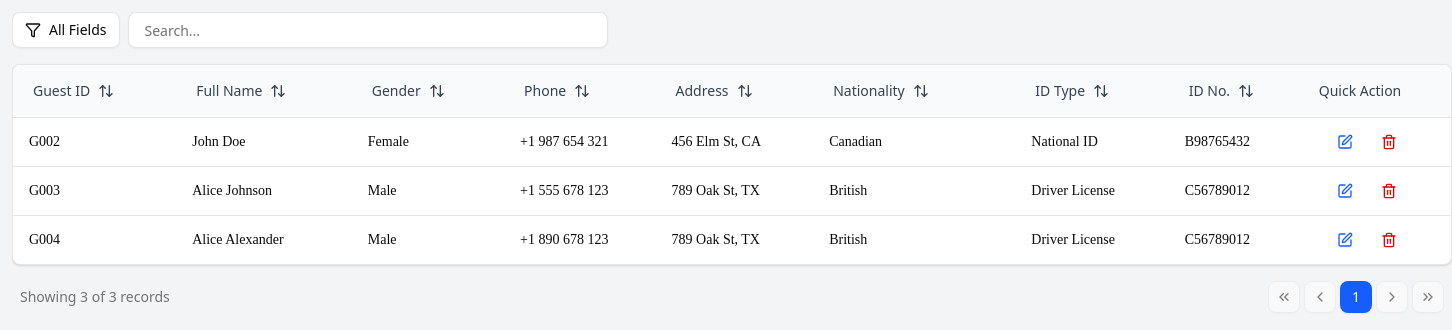
Test case: CustomTable Component › filters data based on text input
Type "Alice" into the field with placeholder "Search...". click: (368,30)
box: [128,12,608,48]
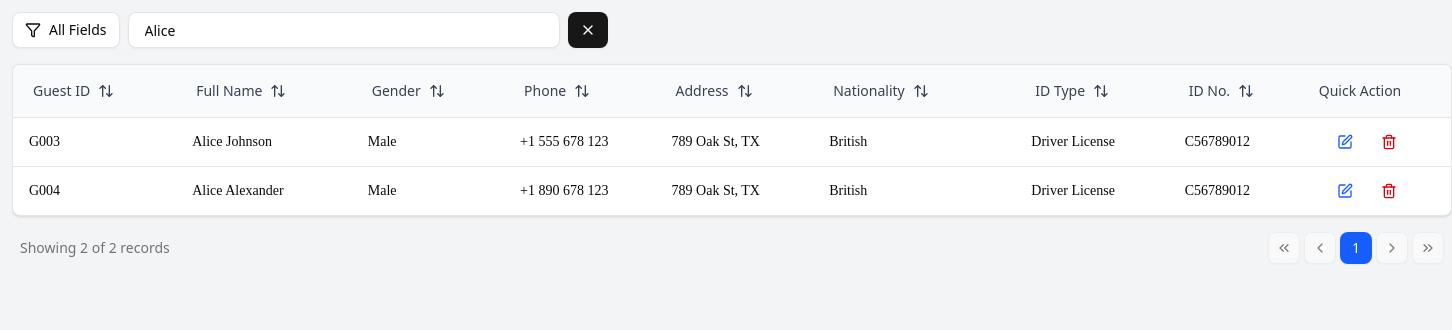
Clear the field with placeholder "Search...". click: (344,30)
box: [128,12,560,48]
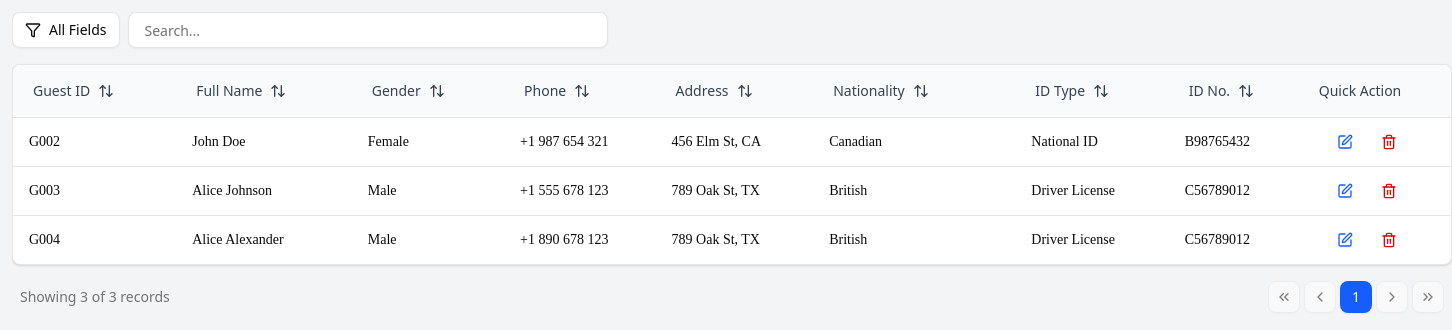
Type "Mikias" into the field with placeholder "Search...". click: (368,30)
box: [128,12,608,48]
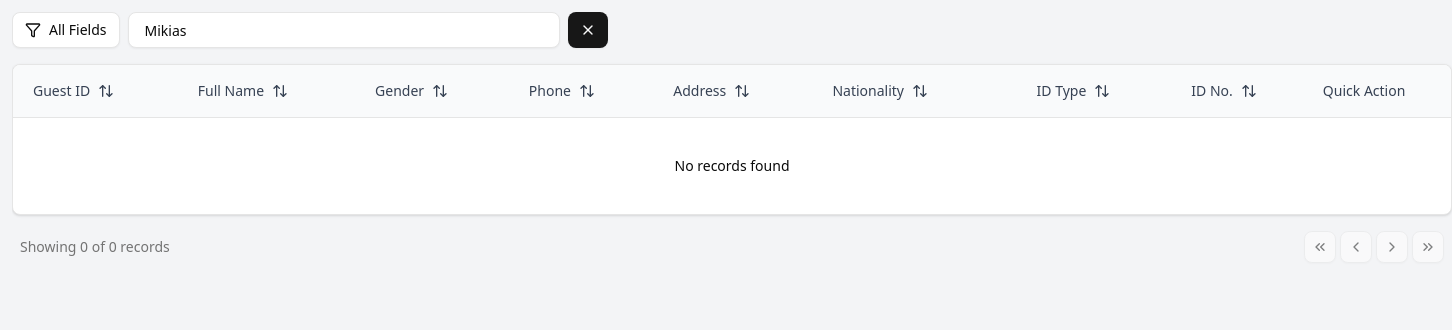
Now the text "No records found" is shown, box [13,118,1451,214]
Replace the text in the field with placeholder "Search..." with "John Doe". click: (344,30)
box: [128,12,560,48]
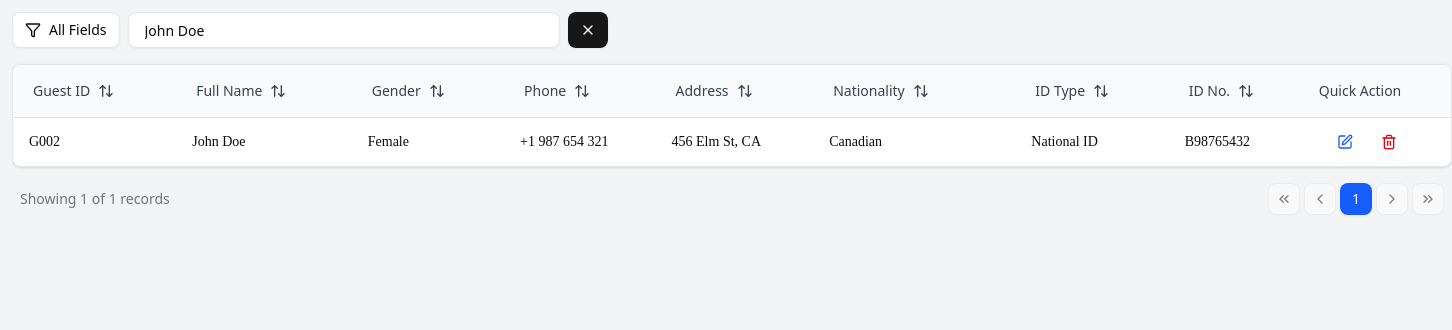
Now the row that starts with "G002" shows "John Doe", box [192,134,246,149]
